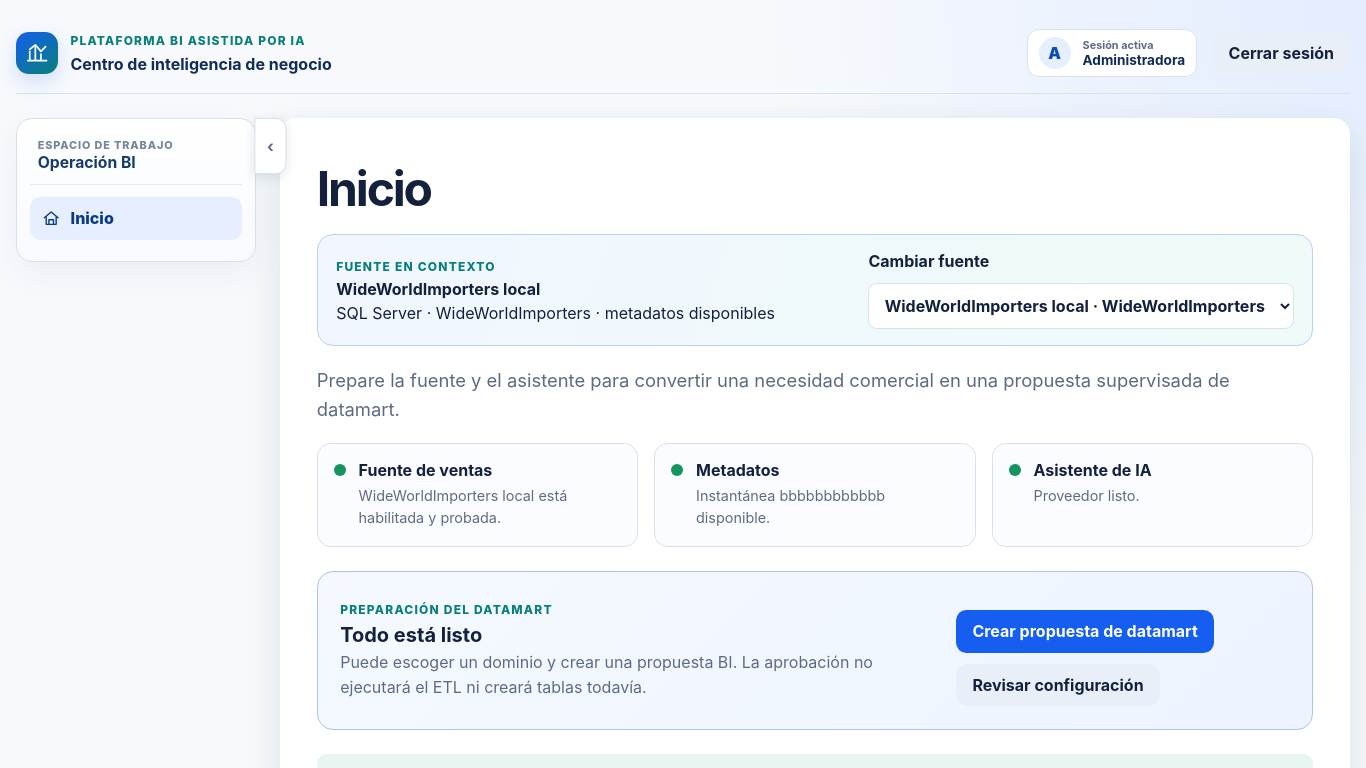
Test case: App › mantiene en Inicio la fuente seleccionada y consulta su preparación explícita
Check: the text "WideWorldImporters local está habilitada y probada." is shown, box [359, 487, 567, 526]
Select "Fuente comercial de prueba · BaseComercial" in the dropdown labelled "Cambiar fuente". click: coordinates (1081, 306)
box: [868, 283, 1294, 329]
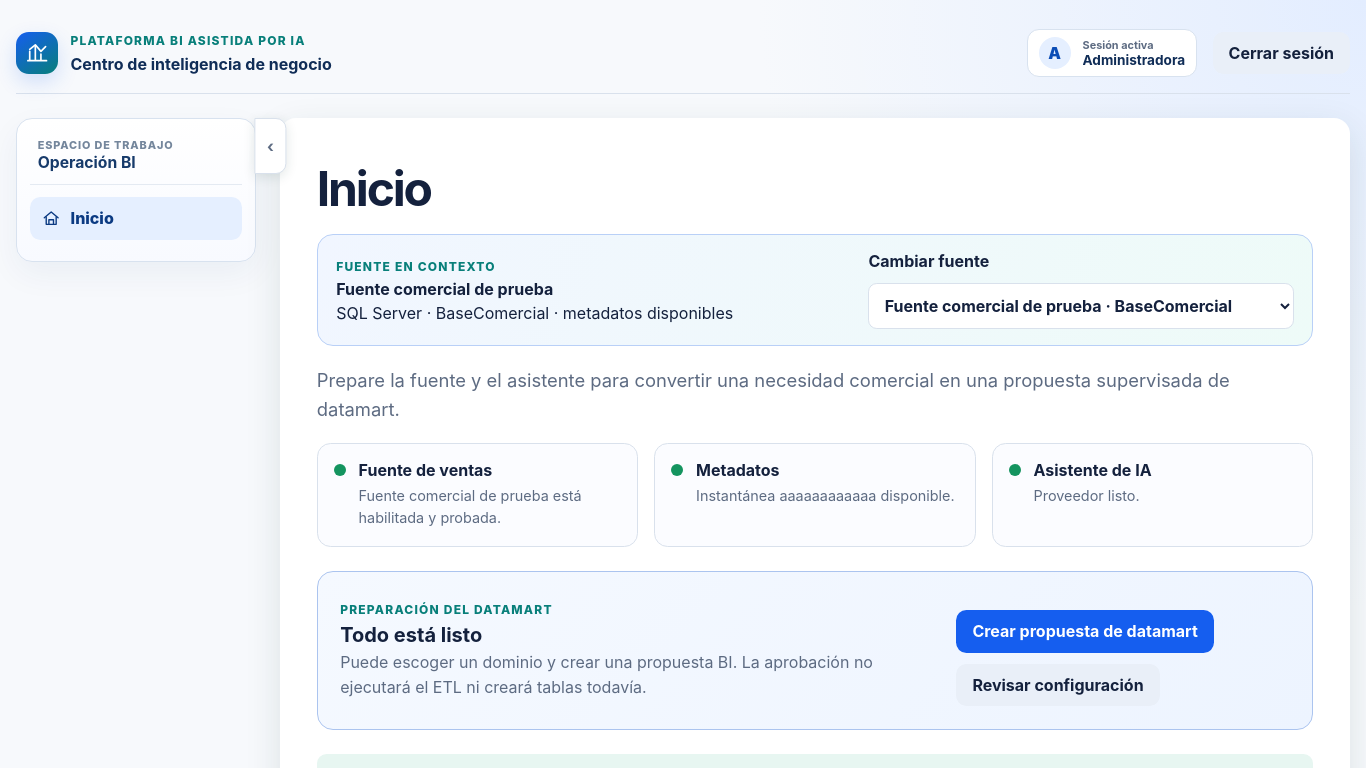
Check: the text "Fuente comercial de prueba está habilitada y probada." is shown, box [359, 487, 582, 526]
